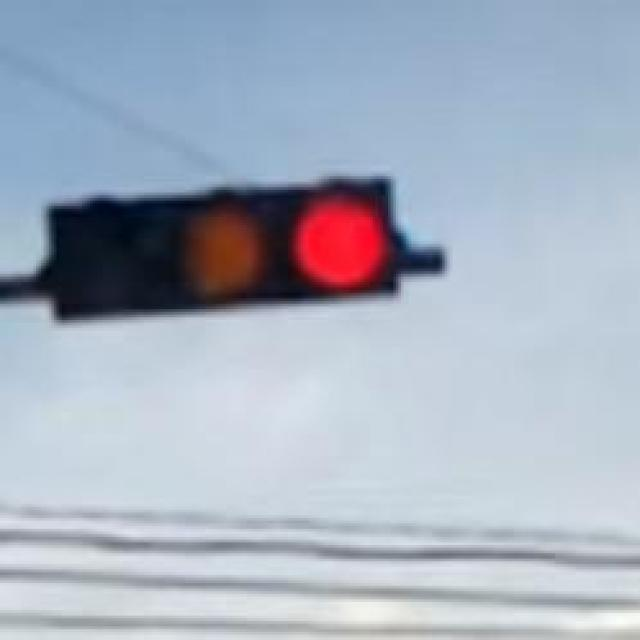yellow_light: (167, 261, 311, 619)
